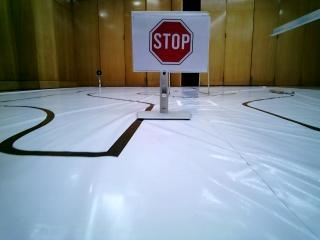stop: (140, 16, 200, 64)
